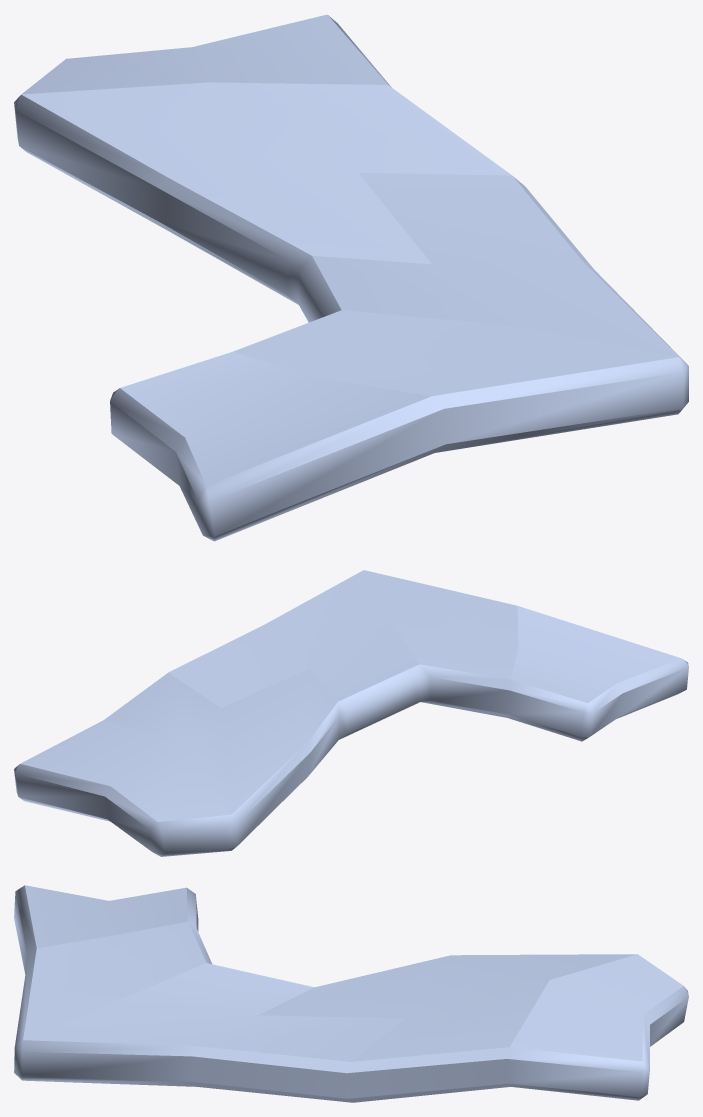
File: floe_ind_5.fbx
3 renders of one model, top to bottom at view 1: azimuth 30°, elevation 25°; view 2: azimuth 150°, elevation 25°; view 3: azimuth 270°, elevation 25°, orthographic. The views are drawn at different scales.
Visible parts, largest first — view 1: Plane.024; view 2: Plane.024; view 3: Plane.024.
Part boxes in pixels (x1,y1,x2,y2): Plane.024: (14, 14, 688, 541); Plane.024: (14, 570, 688, 856); Plane.024: (14, 885, 688, 1102).
Bounding box in the file's own units: 259 × 46.55 × 369.
